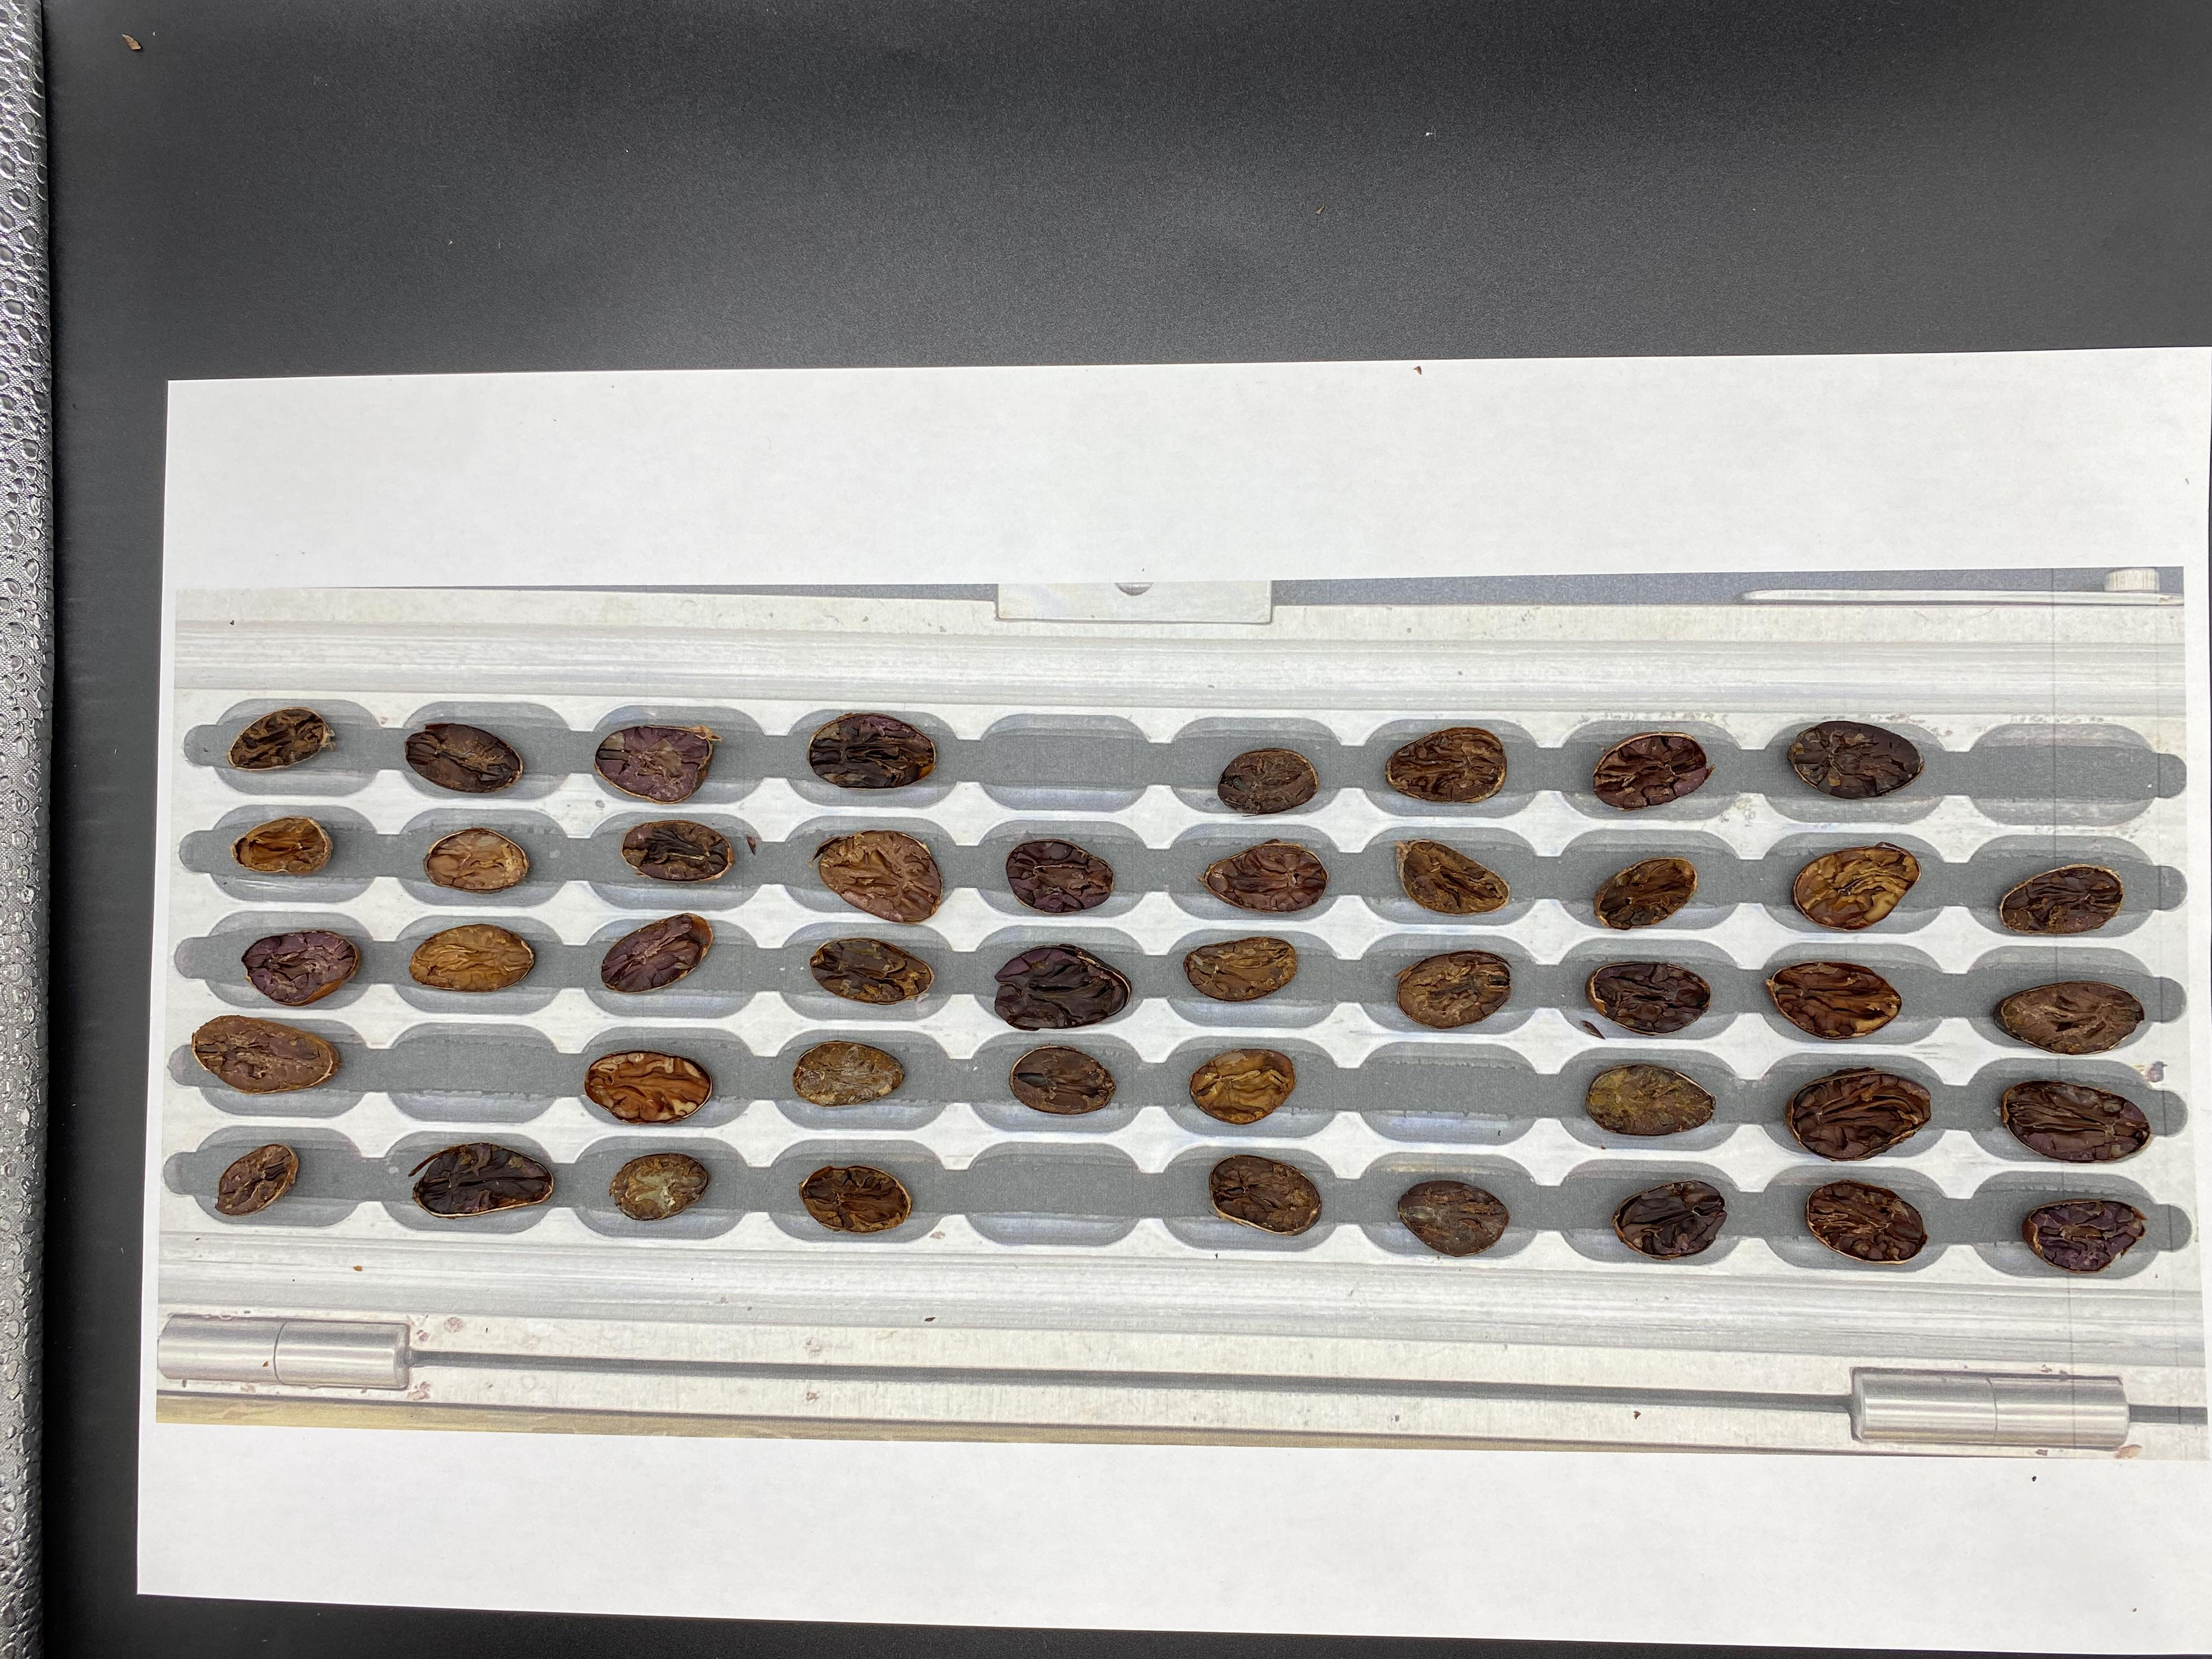Brown - G1: (1991, 538, 2080, 596), (1979, 483, 2060, 535), (1381, 530, 1454, 577), (1204, 413, 1263, 453)
Brown - G2: (1994, 425, 2071, 483), (1498, 416, 1575, 474), (1784, 364, 1862, 420), (2001, 596, 2076, 648), (1791, 422, 1864, 469), (1696, 425, 1770, 472), (1684, 528, 1752, 577), (1489, 587, 1557, 633), (1892, 430, 1954, 477)
Brown - G3: (1183, 509, 1266, 561), (2101, 493, 2184, 540), (1791, 477, 1862, 530), (1700, 584, 1764, 634), (1289, 469, 1366, 509), (1190, 579, 1249, 629), (1684, 472, 1754, 514), (1595, 530, 1662, 573), (1301, 416, 1364, 458)
Insect-damaged: (1888, 538, 1968, 584)
Mouldy: (1789, 594, 1862, 647), (1486, 525, 1554, 570), (1393, 582, 1456, 627), (1702, 376, 1766, 420)
Partly Purple - G1: (1588, 474, 1670, 530), (1888, 364, 1966, 422)
Partly Purple - G2: (2099, 544, 2186, 598), (1292, 577, 1372, 627), (1493, 356, 1569, 406), (1888, 483, 1965, 532), (1594, 420, 1662, 469), (1399, 415, 1467, 453)
Partly Purple - G3: (1388, 458, 1456, 516)
Total Purple - G2: (2109, 606, 2184, 652)
Total Purple - G3: (1381, 364, 1461, 415), (1207, 469, 1278, 518)
Very Dark Brown - G1: (1200, 354, 1263, 401)
Very Dark Brown - G2: (1900, 592, 1972, 648), (2101, 436, 2174, 481)
Very Dark Brown - G3: (1993, 361, 2073, 411), (1289, 361, 1360, 408), (1494, 474, 1569, 516)
